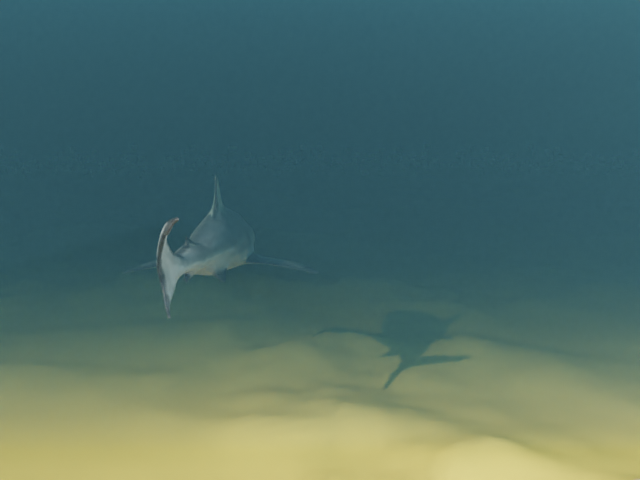Carribean Shark.001: (121, 174, 318, 318)
